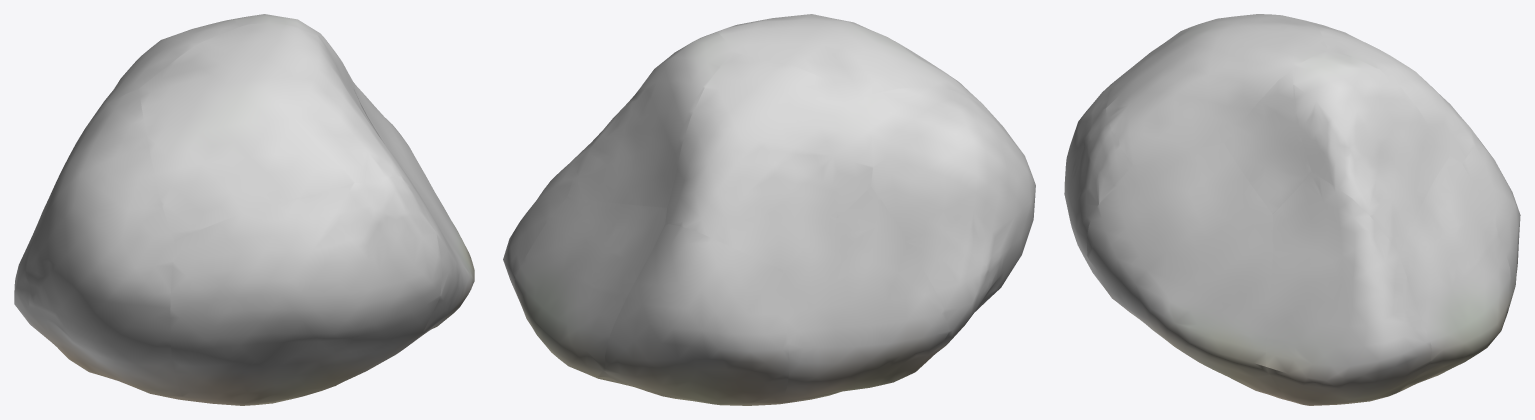
The model's file is gold_rock_v8.glb.
The picture shows the model from 3 angles, left to right: view 1: azimuth 30°, elevation 25°; view 2: azimuth 150°, elevation 25°; view 3: azimuth 270°, elevation 25°; orthographic projection. The views are drawn at different scales.
Visible parts, largest first — view 1: Chunk_05, Chunk_09, Chunk_04, Chunk_06, Chunk_08, Chunk_00, Chunk_07, Chunk_23; view 2: Chunk_08, Chunk_04, Chunk_02, Chunk_03, Chunk_01, Chunk_07, Chunk_09, Chunk_00, Chunk_11; view 3: Chunk_06, Chunk_00, Chunk_09, Chunk_07, Chunk_01, Chunk_23, Chunk_05, Chunk_08, Chunk_02.
Boxes of the visible parts, x1,y1,x2,y2 form: Chunk_05: (170,176,442,405); Chunk_09: (139,23,409,241); Chunk_04: (14,89,187,400); Chunk_06: (384,143,474,346); Chunk_08: (86,19,246,126); Chunk_00: (354,85,466,247); Chunk_07: (224,14,355,88); Chunk_23: (300,28,384,143); Chunk_08: (665,53,872,270); Chunk_04: (864,87,1035,372); Chunk_02: (605,223,789,403); Chunk_03: (784,187,948,397); Chunk_01: (514,196,666,376); Chunk_07: (568,32,733,207); Chunk_09: (717,14,984,105); Chunk_00: (503,131,601,297); Chunk_11: (714,390,852,405); Chunk_06: (1086,143,1290,401); Chunk_00: (1266,172,1431,405); Chunk_09: (1106,14,1327,165); Chunk_07: (1294,51,1449,251); Chunk_01: (1398,156,1512,378); Chunk_23: (1224,67,1311,213); Chunk_05: (1064,74,1132,290); Chunk_08: (1306,20,1477,163); Chunk_02: (1462,137,1520,306).
Size of the model in its own units: 2.43 by 1.64 by 2.32.
